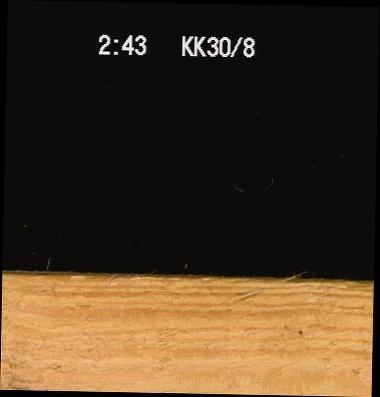small_knot: (289, 319, 310, 339)
